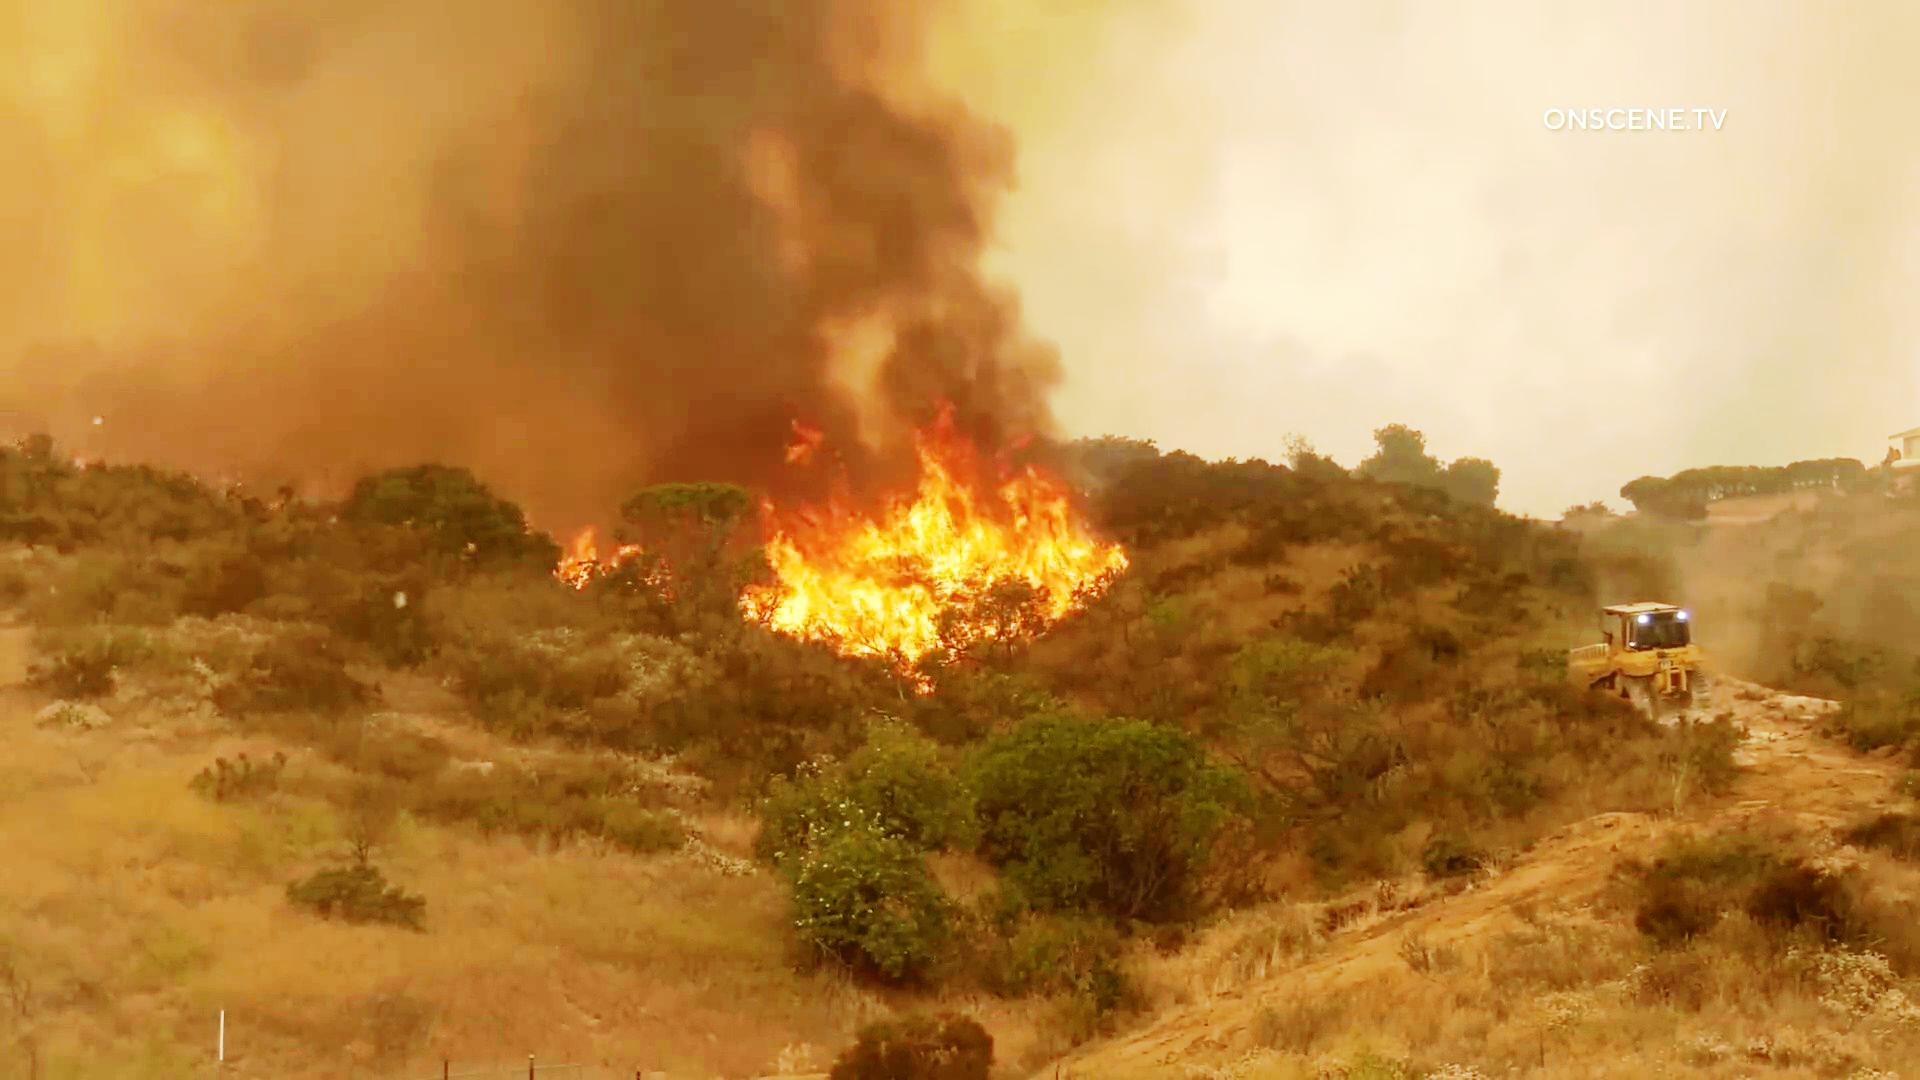fire: (745, 423, 1117, 662)
smoke: (535, 18, 819, 452), (785, 41, 1058, 352)
